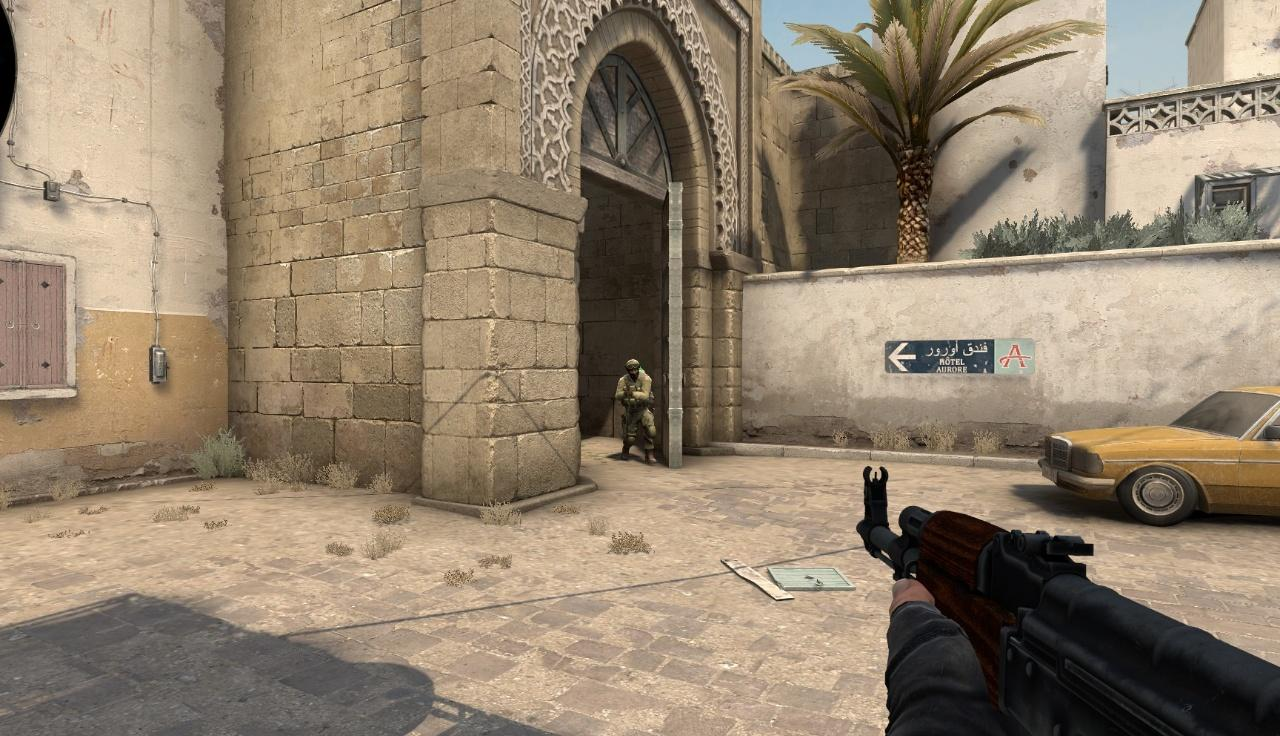ct: (617, 359, 655, 463)
cthead: (626, 360, 641, 380)
rifle: (855, 463, 1280, 736)
